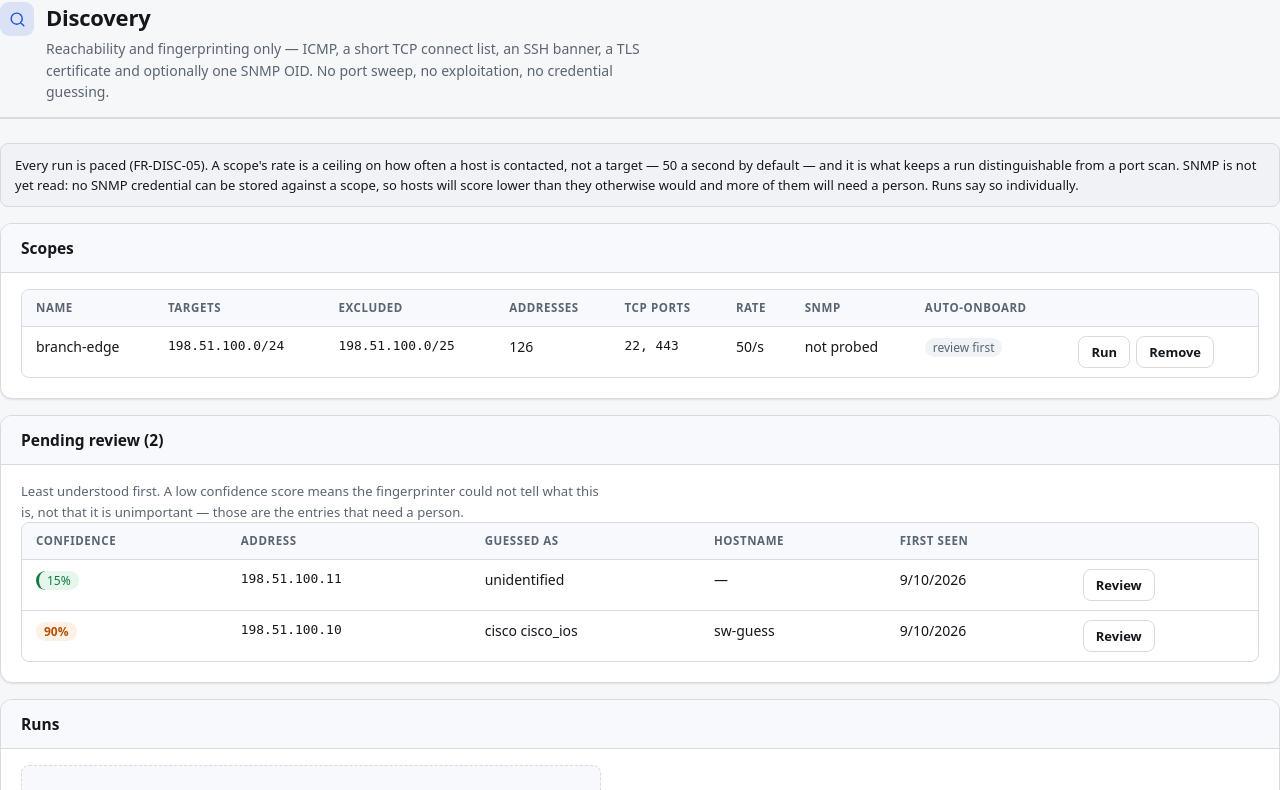
Test: DiscoveryPage › starting a run › backs out without sending anything
Expected: the text "branch-edge" is shown, [22,327,154,377]
Click the button "Run": (1104, 352) [1078,336,1130,368]
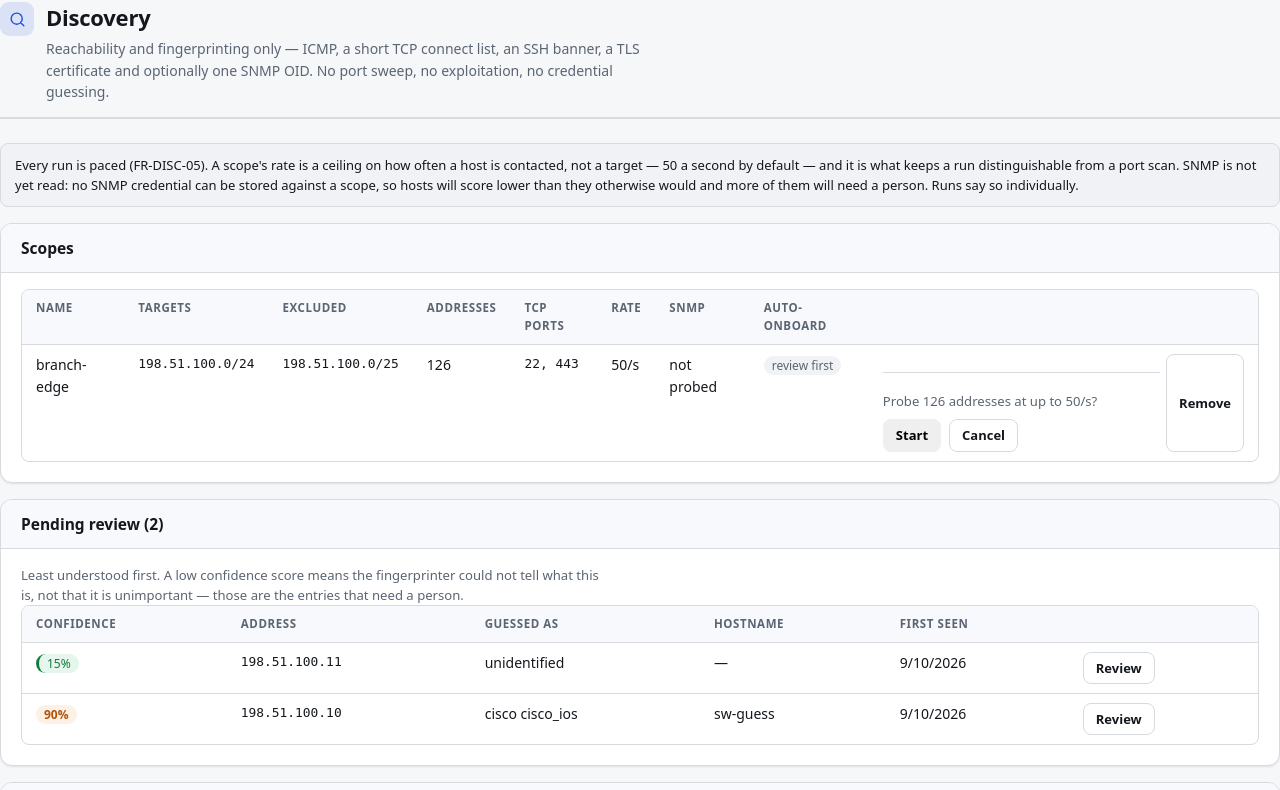
Click the button "Cancel": (984, 436) [949,420,1018,452]
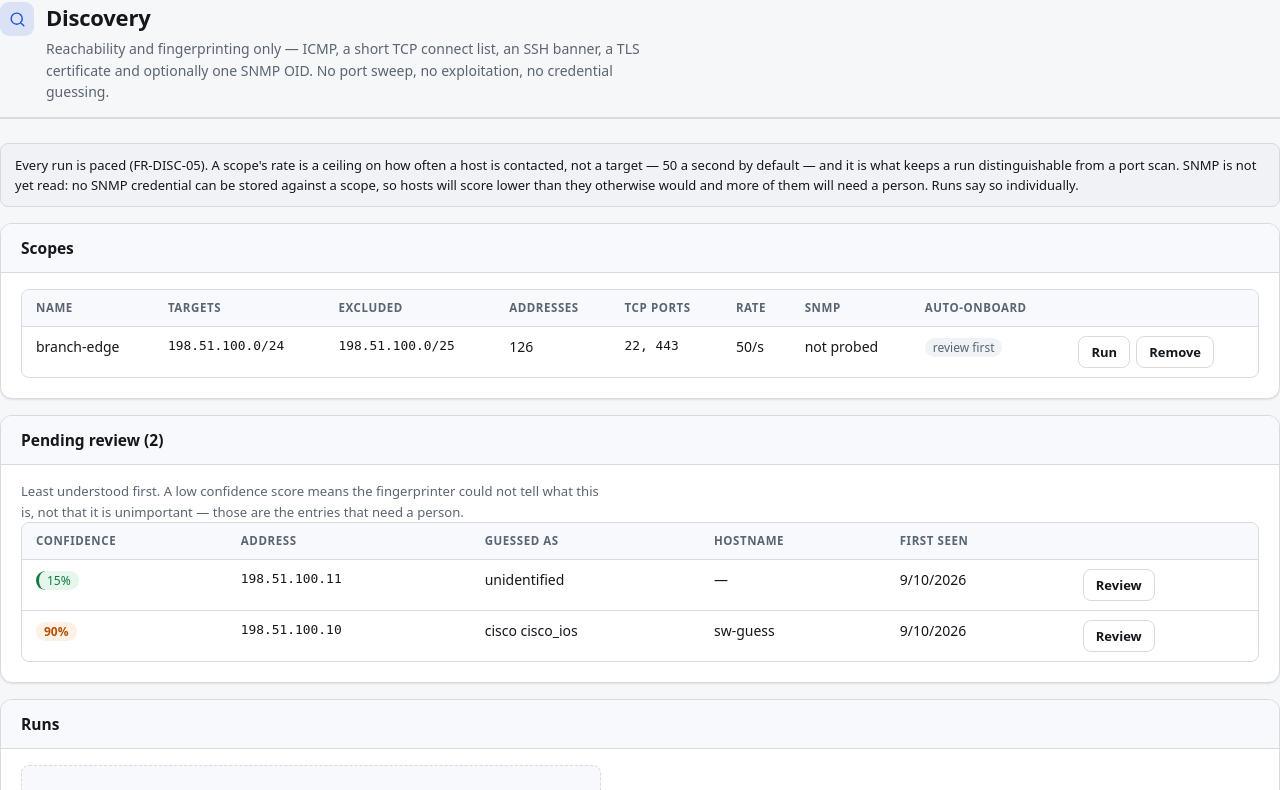
Now the button "Run" is shown, box [1078,336,1130,368]
